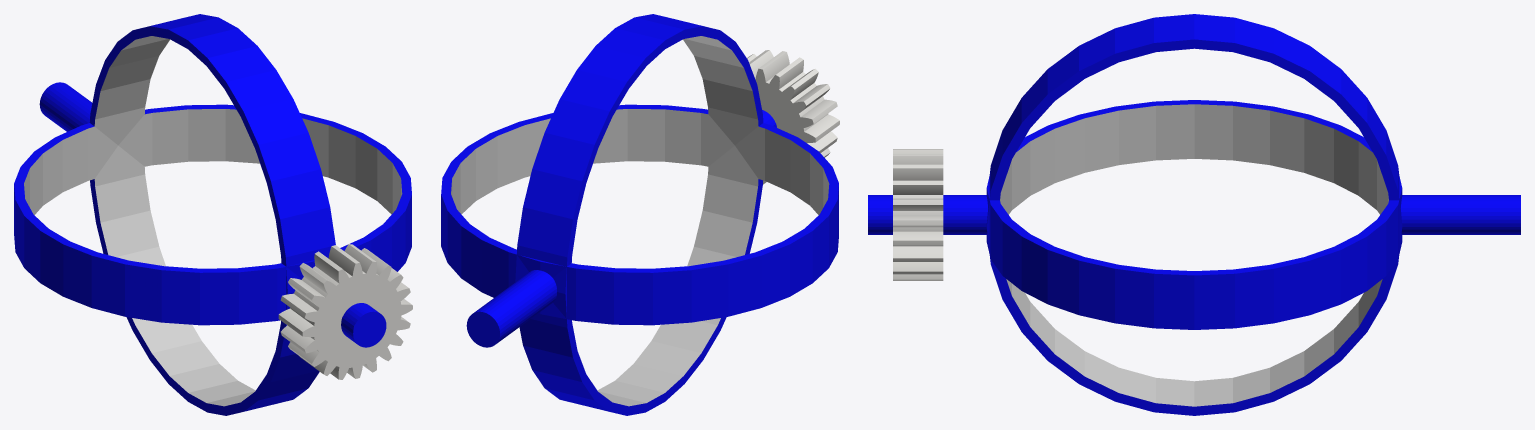
3 renders of one model, left to right at view 1: azimuth 30°, elevation 25°; view 2: azimuth 150°, elevation 25°; view 3: azimuth 270°, elevation 25°, orthographic. The views are drawn at different scales.
Visible parts, largest first — view 1: Cylinder.003, Cylinder.002, lite_tannhjul, Cylinder.005, Cylinder.004; view 2: Cylinder.003, Cylinder.002, lite_tannhjul, Cylinder.005; view 3: Cylinder.003, Cylinder.002, lite_tannhjul, Cylinder.005, Cylinder.004.
Boxes of the visible parts, x1=… form: Cylinder.003: x1=14, y1=104, x2=411, y2=325; Cylinder.002: x1=89, y1=14, x2=335, y2=415; lite_tannhjul: x1=278, y1=244, x2=412, y2=379; Cylinder.005: x1=39, y1=82, x2=92, y2=131; Cylinder.004: x1=300, y1=275, x2=386, y2=347; Cylinder.003: x1=441, y1=104, x2=838, y2=325; Cylinder.002: x1=515, y1=14, x2=763, y2=415; lite_tannhjul: x1=747, y1=50, x2=839, y2=184; Cylinder.005: x1=466, y1=270, x2=556, y2=347; Cylinder.003: x1=986, y1=100, x2=1402, y2=329; Cylinder.002: x1=986, y1=14, x2=1402, y2=415; lite_tannhjul: x1=893, y1=149, x2=943, y2=280; Cylinder.005: x1=1401, y1=195, x2=1520, y2=234; Cylinder.004: x1=868, y1=195, x2=987, y2=234.
Size of the model in its own units: 41.36 by 41.36 by 65.
